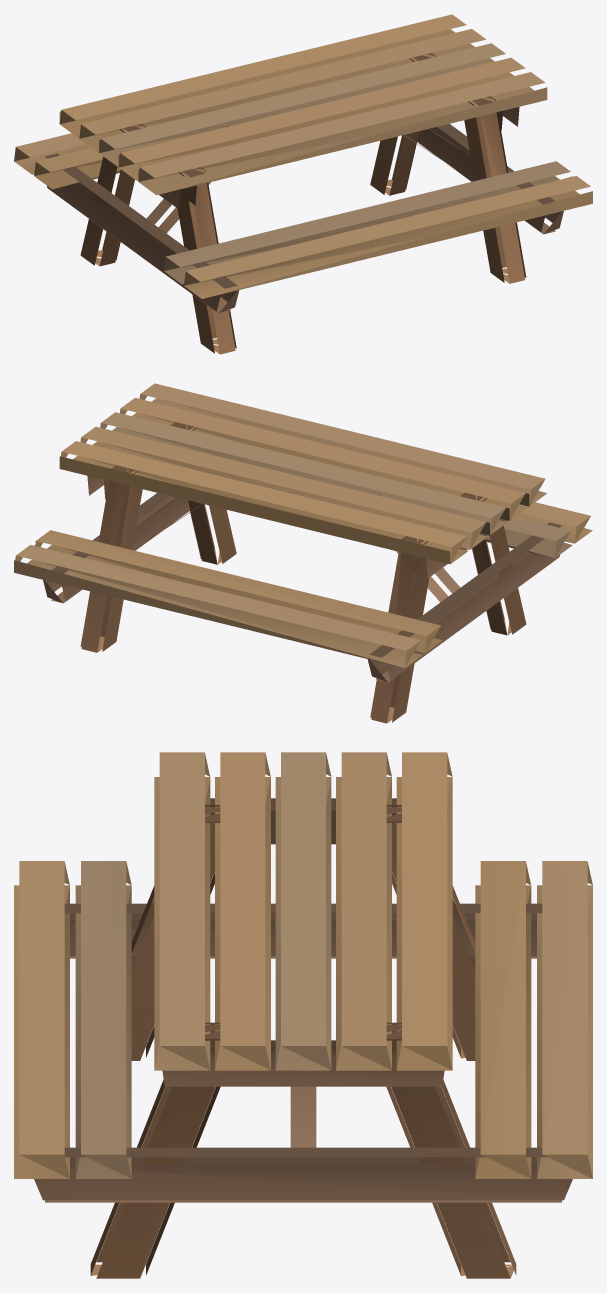
The model's file is table.lod.glb.
3 views of the same model, one above another, from view 1: azimuth 30°, elevation 25°; view 2: azimuth 150°, elevation 25°; view 3: azimuth 270°, elevation 25° (orthographic). The views are drawn at different scales.
Visible parts, largest first — view 1: table.001; view 2: table.001; view 3: table.001.
Part boxes in pixels (left/top/right/bottom): table.001: left=14, top=14, right=592, bottom=354; table.001: left=14, top=383, right=592, bottom=723; table.001: left=14, top=752, right=592, bottom=1278.
Bounding box in the file's own units: 2.16 × 0.9 × 1.8.
